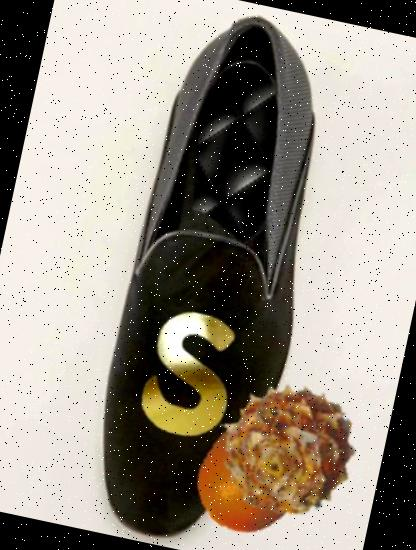Grapefruit: (182, 406, 322, 545)
Pineapple: (200, 365, 371, 536)
